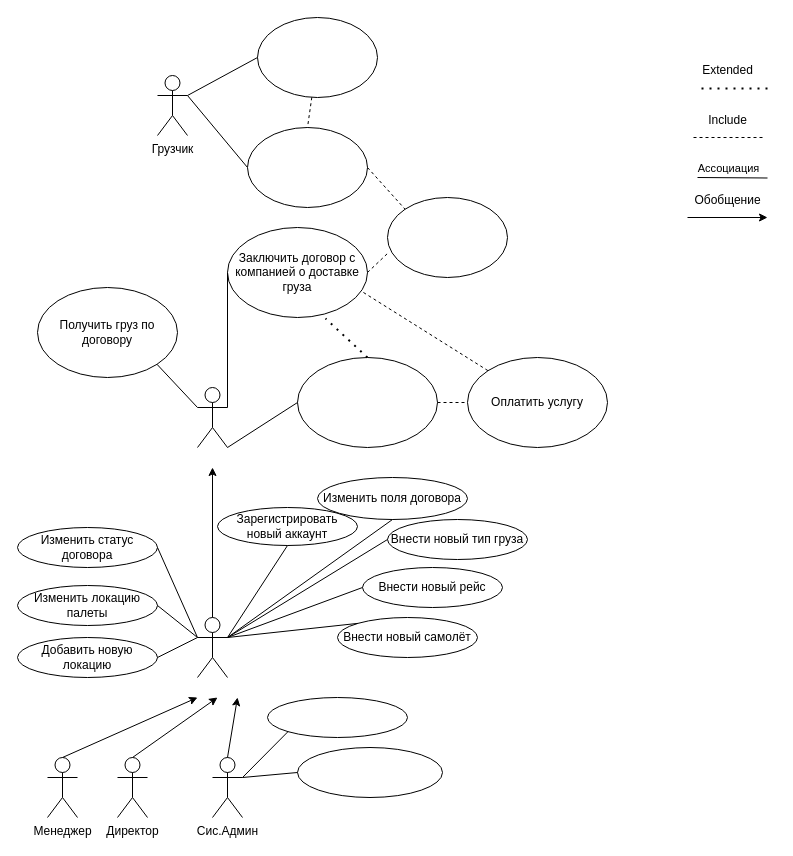
Some shapes in this 793 by 856 pixel diagram are drawn without their labels. Here are the shapes that lost their labels. From the top down, the centre of each, then its label:
point (317, 57): Выдать груз по договору
point (307, 167): Изменить статус груза в систему
point (447, 237): Внести груз в систему
point (212, 417): Клиент
point (367, 402): Купить билет на рейс
point (212, 647): Менеджер системы
point (337, 717): Изменить тип аккаунта
point (369, 772): Изменить системные настройки
